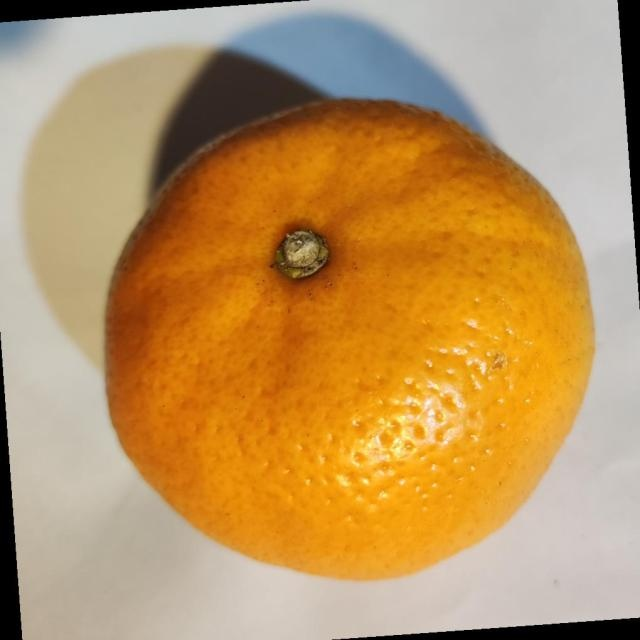agrume: (102, 95, 596, 582)
